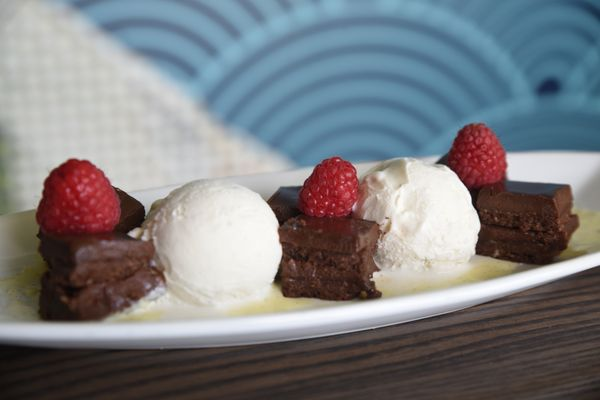curry: (1, 0, 598, 389)
sushi: (33, 156, 166, 321), (474, 179, 579, 264)
